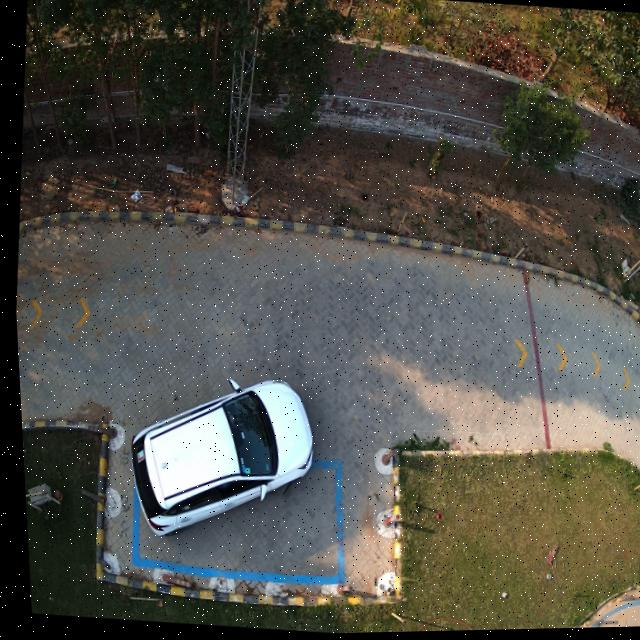car: (127, 381, 308, 536)
